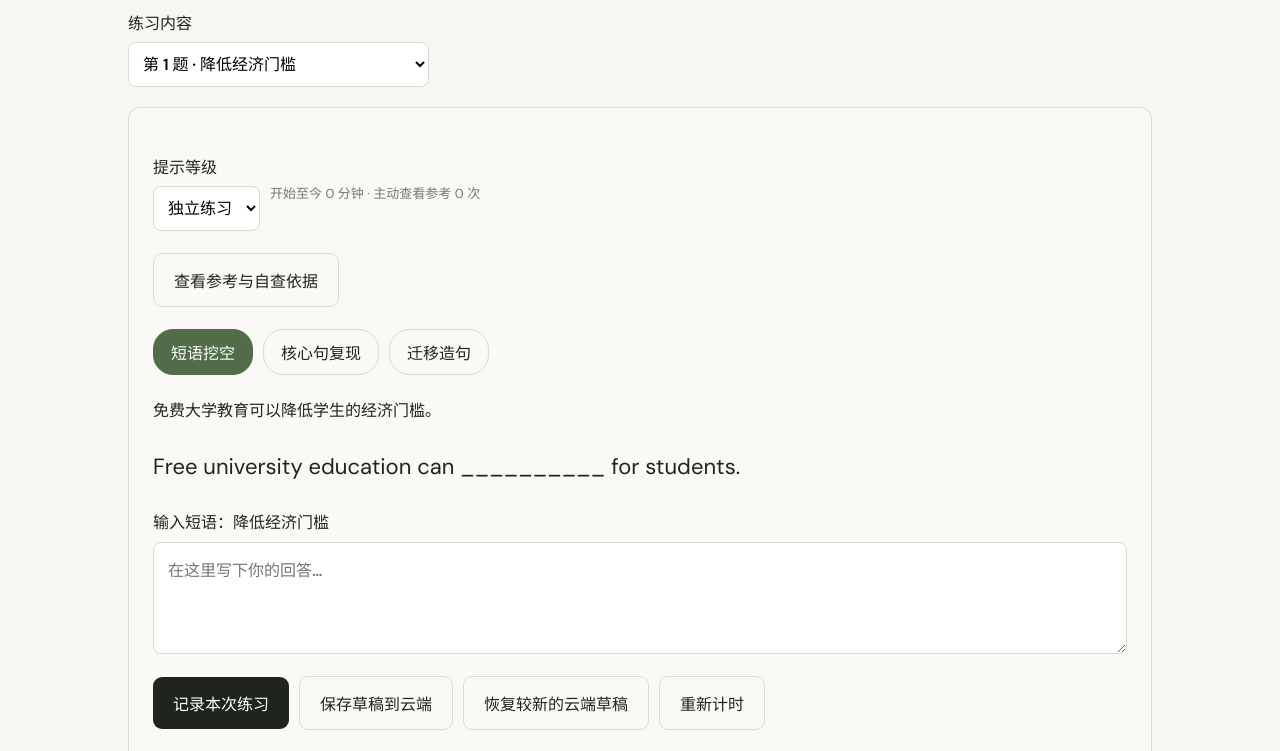
writing leaderboard source records › does not create a completion record when only a migration topic is entered
The width and height of the screenshot is (1280, 751).
(page scrolled)
Step 1. Click the button "迁移造句" → click(439, 352), box [389, 328, 489, 374]
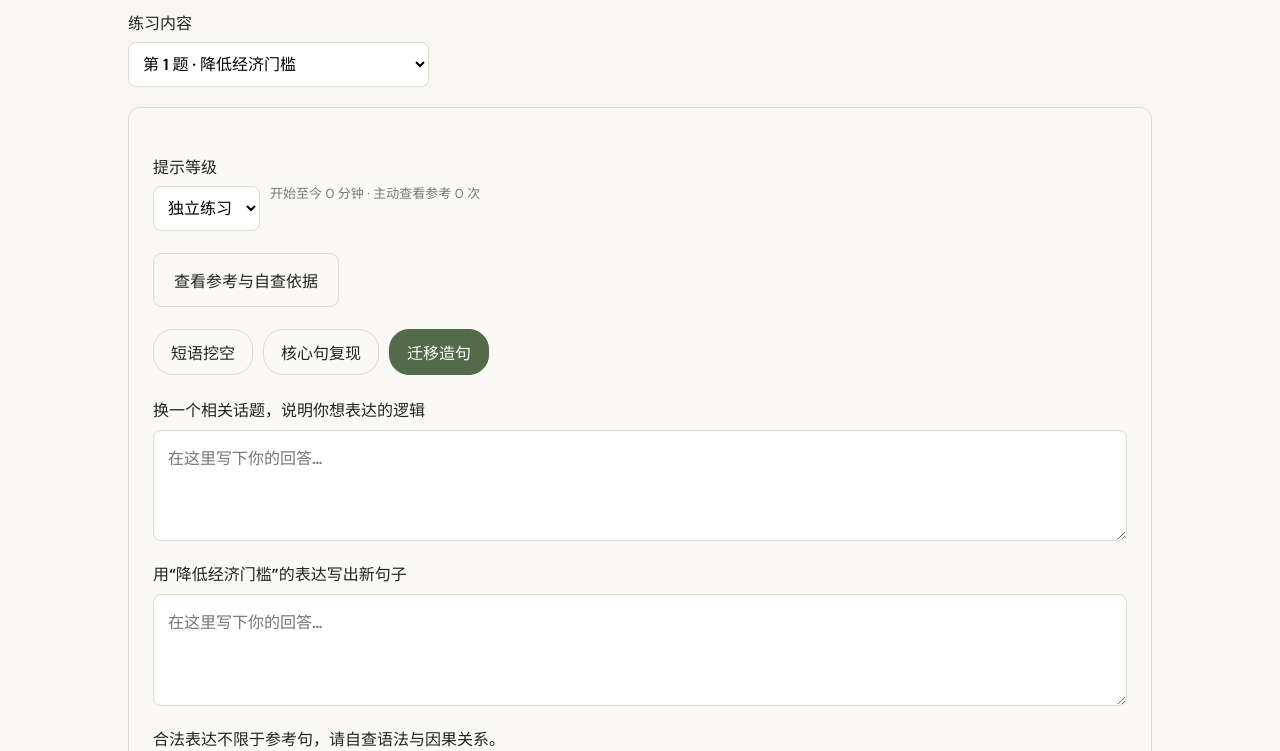
Step 2. Type "Public transport" into the text box labelled "换一个相关话题，说明你想表达的逻辑" → (640, 485), box [153, 430, 1127, 541]
(page scrolled)
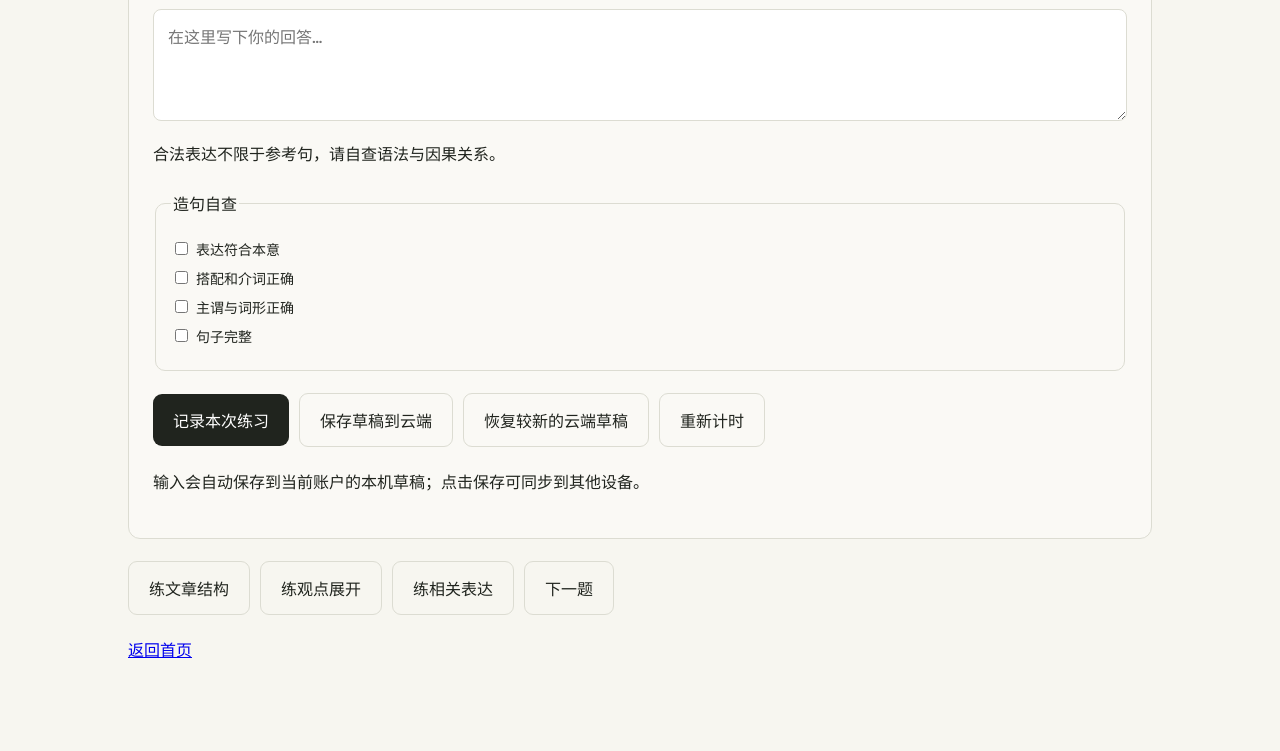
Step 3. Click the button "记录本次练习" → click(221, 420), box [153, 394, 289, 446]
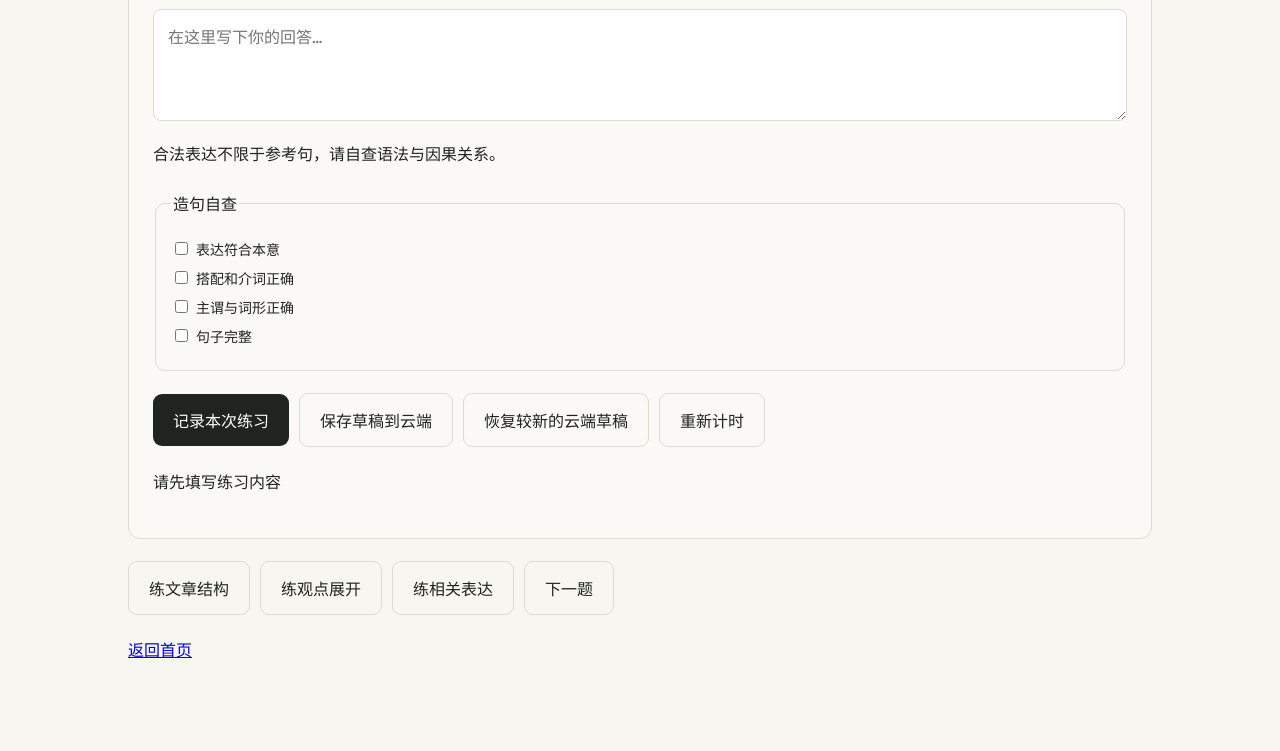
Check: the text "请先填写练习内容" is shown, box [153, 472, 281, 494]
